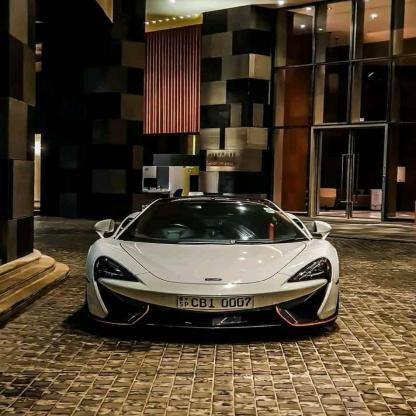car front: (78, 187, 349, 331)
number plate: (174, 292, 253, 310)
